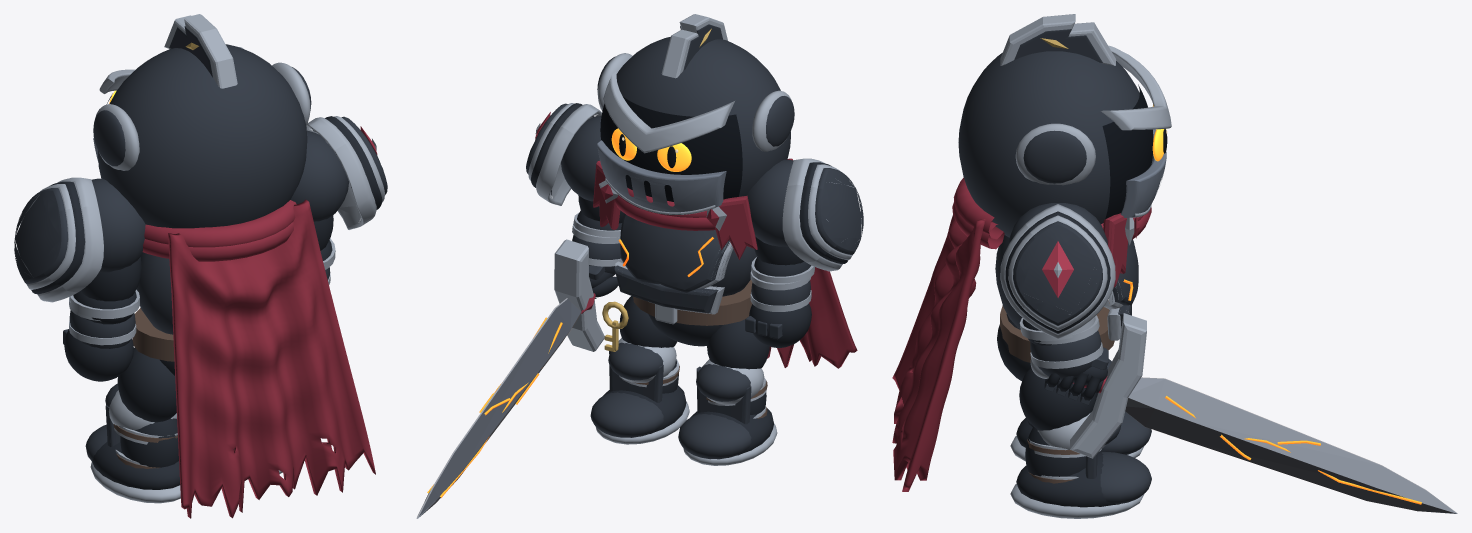
The model's file is ember-guardian.glb.
3 renders of one model, left to right at view 1: azimuth 30°, elevation 25°; view 2: azimuth 150°, elevation 25°; view 3: azimuth 270°, elevation 25°, orthographic. The views are drawn at different scales.
Parts seen in each view (by area): view 1: armor-batch (×24); view 2: armor-batch (×33), forged-blade, ember-eye; view 3: armor-batch (×24), forged-blade.
Boxes of the visible parts, x1,y1,x2,y2 form: armor-batch (×24): (14,14,387,518); armor-batch (×33): (427,14,863,497); forged-blade: (416,298,581,518); ember-eye: (657,143,691,171); armor-batch (×24): (892,14,1421,518); forged-blade: (1125,377,1457,513).
Bounding box in the file's own units: 1.39 × 1.73 × 1.9.
